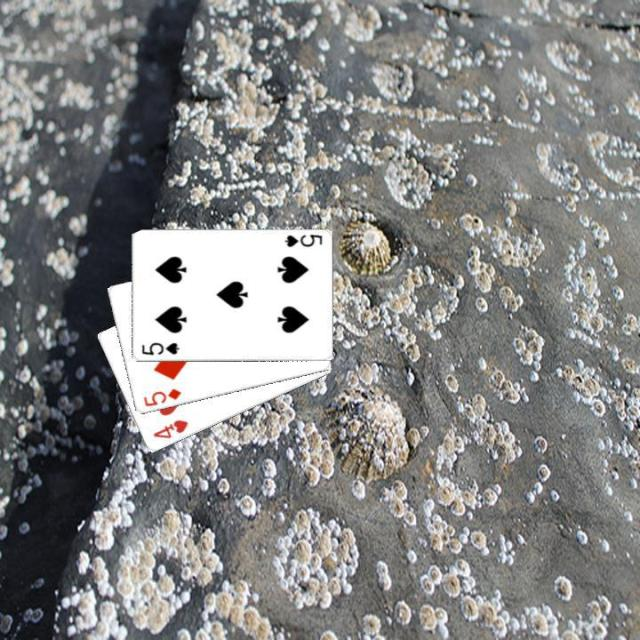4H: (150, 416, 190, 441)
5D: (140, 385, 182, 409)
5S: (280, 231, 324, 249), (138, 338, 180, 356)
